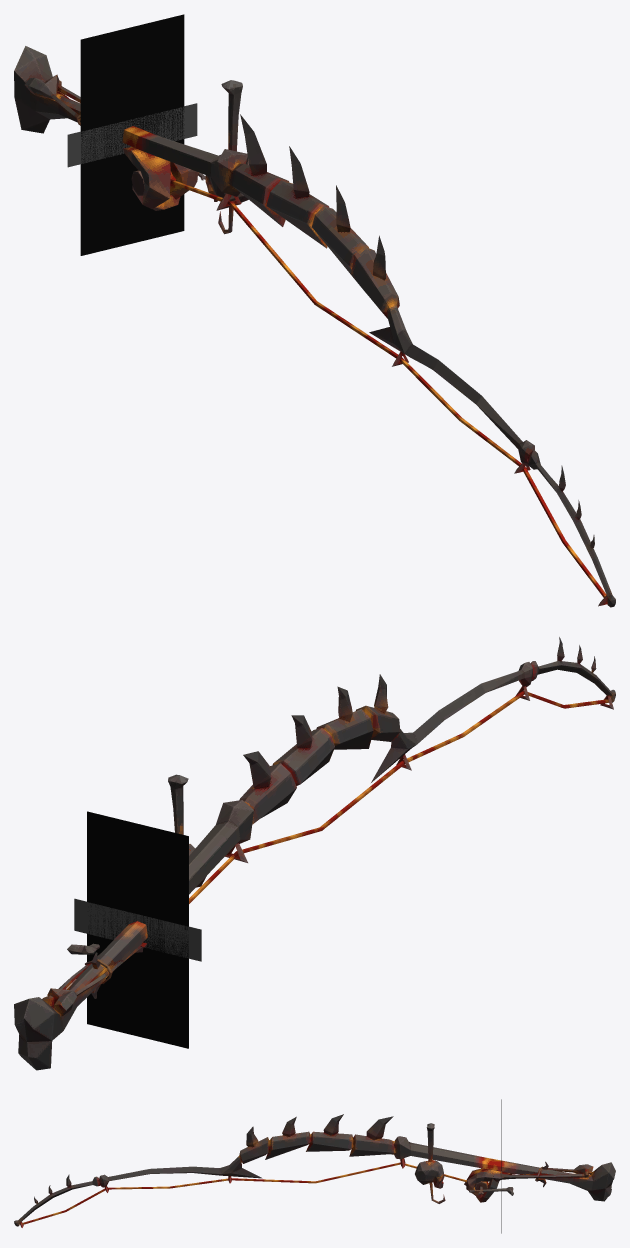
The model's file is item_lava_fishing_rod.glb.
3 views of the same model, one above another, from view 1: azimuth 30°, elevation 25°; view 2: azimuth 150°, elevation 25°; view 3: azimuth 270°, elevation 25° (orthographic). The views are drawn at different scales.
Parts seen in each view (by area): view 1: FishingRod, Cube (×4), Bobber; view 2: Cube (×3), FishingRod, Bobber; view 3: FishingRod, Bobber, FishingReel.
Part boxes in pixels (<box>): FishingRod: <box>14,46,615,607</box>; Cube (×4): <box>67,14,197,255</box>; Bobber: <box>205,80,248,202</box>; Cube (×3): <box>74,811,201,1048</box>; FishingRod: <box>14,637,615,1070</box>; Bobber: <box>168,774,206,887</box>; FishingRod: <box>14,1114,615,1227</box>; Bobber: <box>415,1123,444,1188</box>; FishingReel: <box>469,1181,513,1195</box>.
Size of the model in its own units: 0.25 by 0.4236 by 2.
3 materials, 1 textured.
